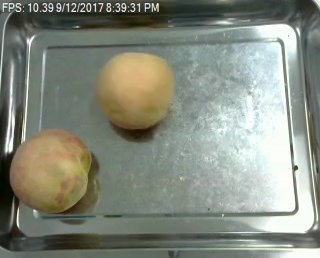Peach: (8, 128, 94, 214), (96, 50, 175, 131)
